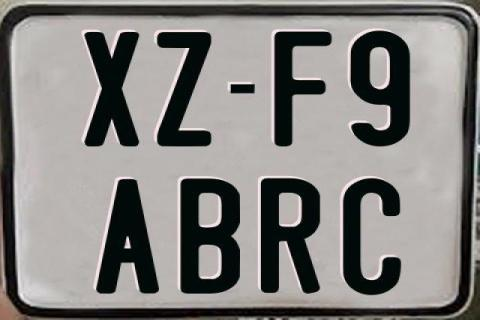0: (347, 30, 411, 146)
A: (96, 177, 165, 293)
B: (181, 176, 243, 296)
C: (342, 176, 400, 294)
F: (271, 30, 334, 146)
R: (258, 176, 321, 296)
X: (82, 31, 142, 146)
Z: (155, 31, 215, 151)
